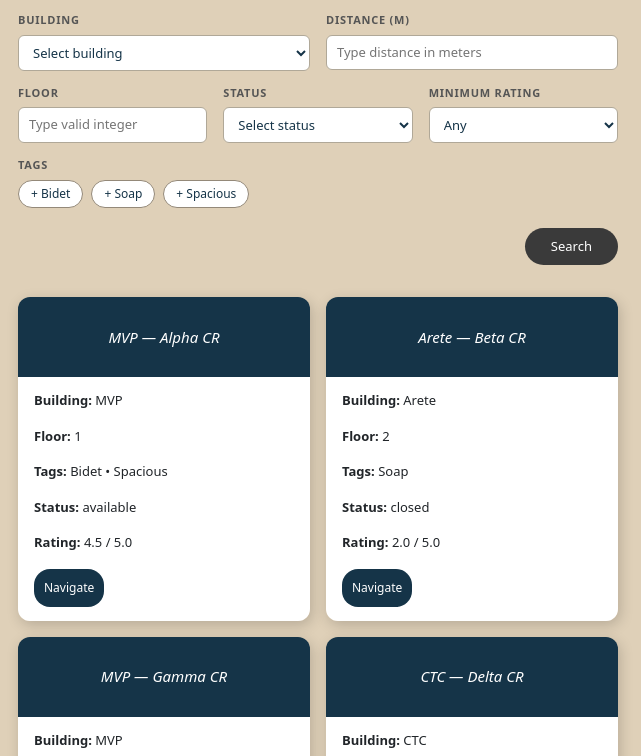
Test: CR Search filters › filters by status
The width and height of the screenshot is (641, 756).
Select "Available" in the 2nd dropdown showing "Select status" at [318, 125], box [223,107,413,143]
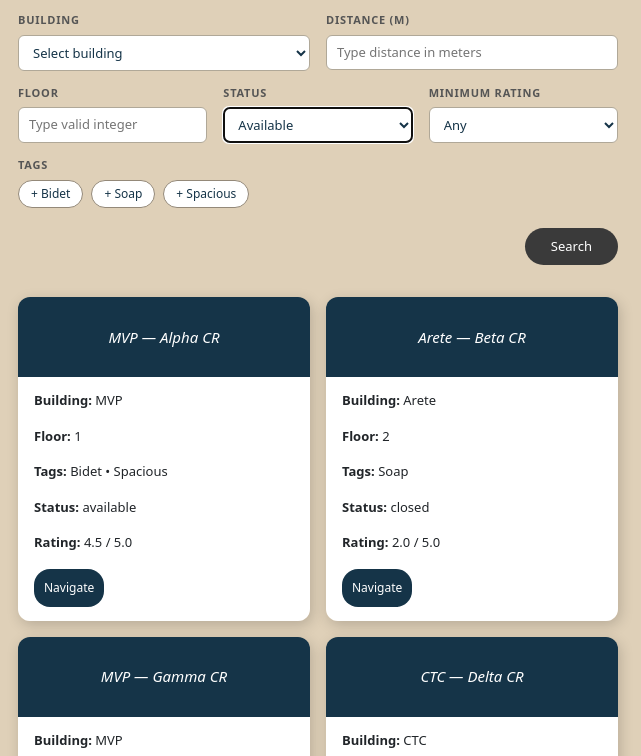
Click the button "Search" at [571, 246], box [525,228,618,265]
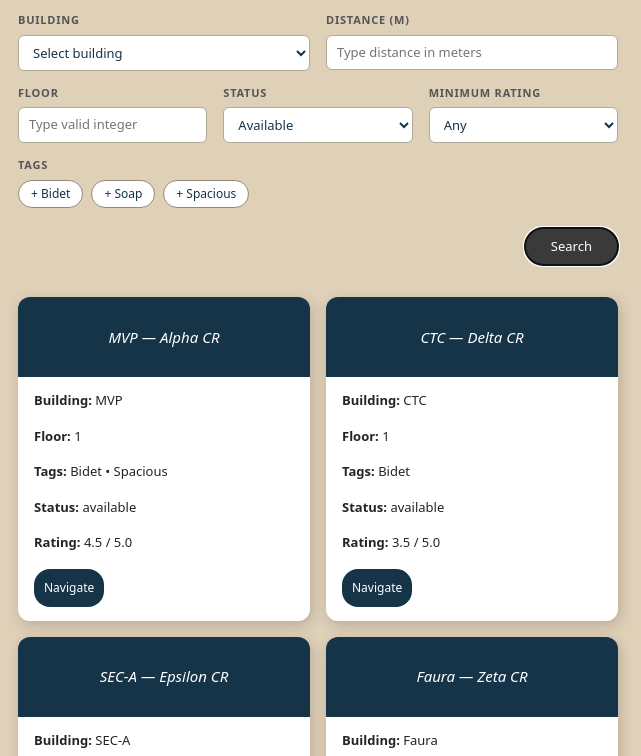
Check: the link "closed" is gone
